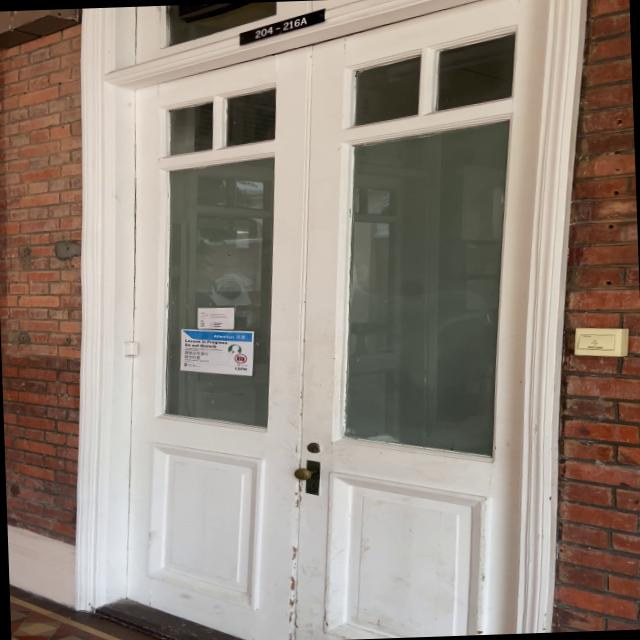room204: (233, 4, 331, 44)
